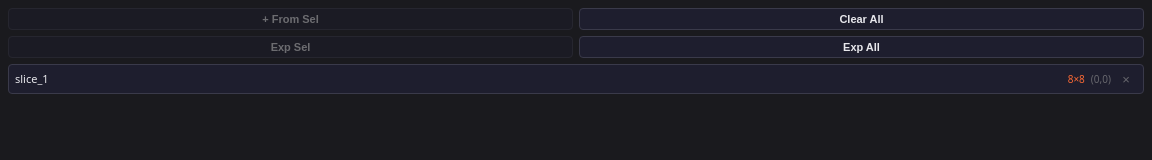
SliceManagerPanel › shows success message after export
Step 1. Click the button with test id "slice-export-all-btn" → click(862, 47), box [579, 36, 1144, 58]
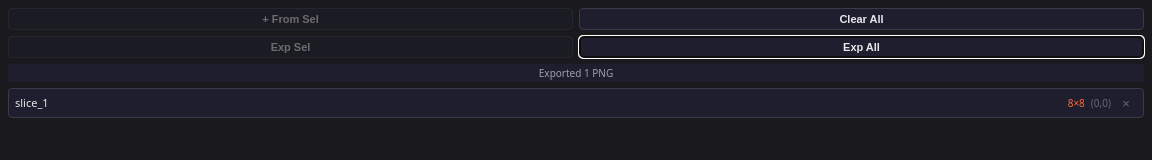
Expected: the text with test id "slice-export-msg" reads "Exported 1 PNG", [539, 66, 613, 80]
